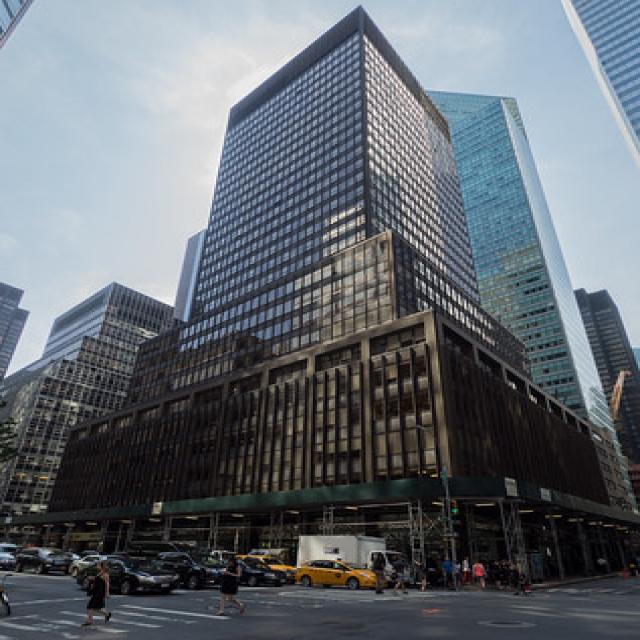Normal_building: (168, 1, 494, 574)
